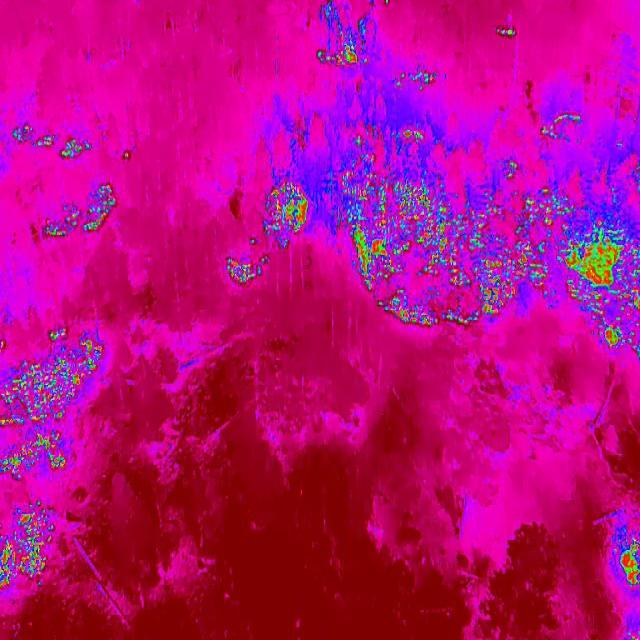fire: (338, 124, 554, 334), (0, 328, 105, 484), (554, 195, 640, 351), (0, 498, 54, 593), (44, 183, 116, 243), (11, 122, 92, 159), (268, 178, 312, 243), (224, 251, 268, 289), (537, 110, 583, 146), (316, 40, 366, 72), (618, 538, 640, 594), (393, 68, 443, 91), (492, 21, 517, 41), (120, 145, 132, 163)
